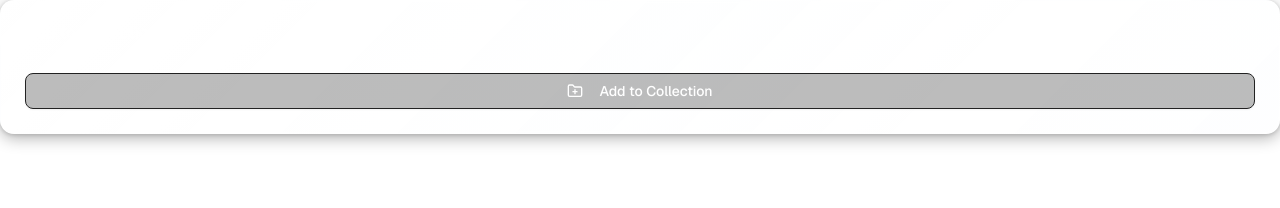
it: AddToCollectionCard › loads and lists collections when dropdown is opened
Click the button "Add to Collection": click(640, 91) [25,73,1255,109]
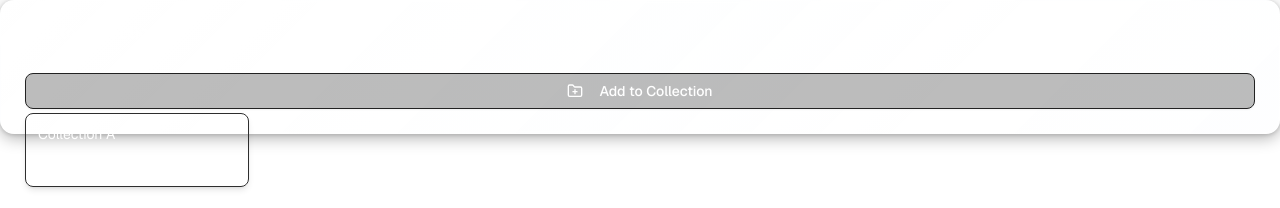
Check: the menu item "Collection A" is shown, box [38,125,115,143]
